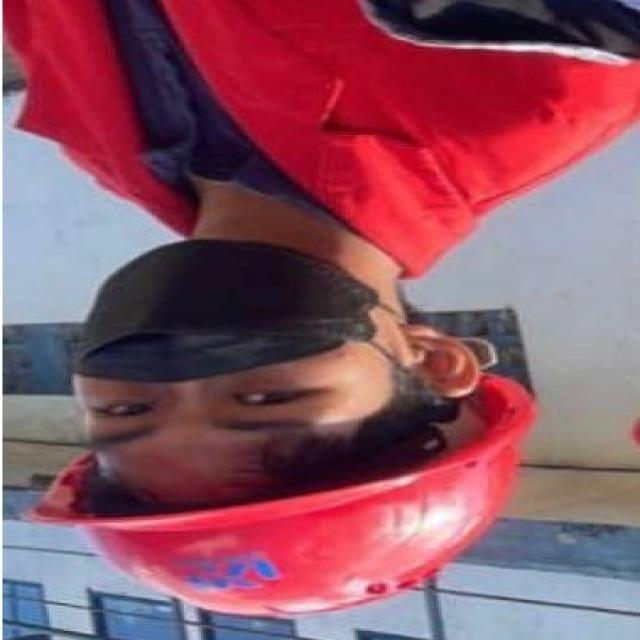safetyhelmet: (49, 390, 532, 617)
